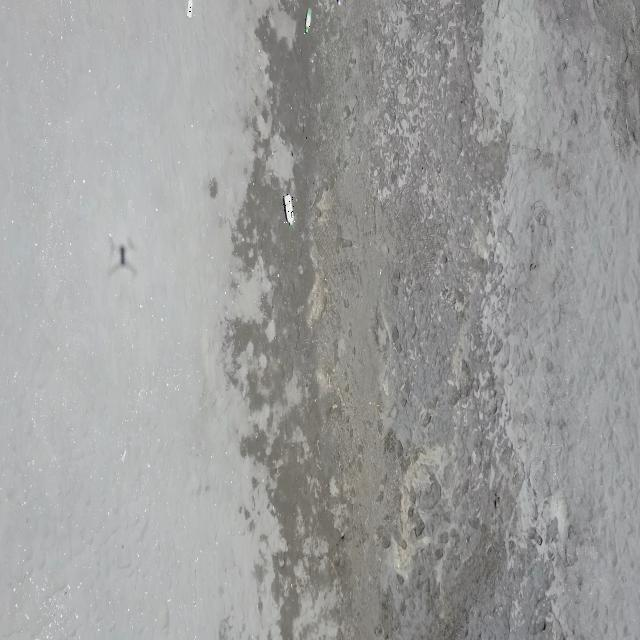plastic-bottle: (283, 193, 295, 226), (304, 8, 312, 34), (187, 0, 192, 19)
